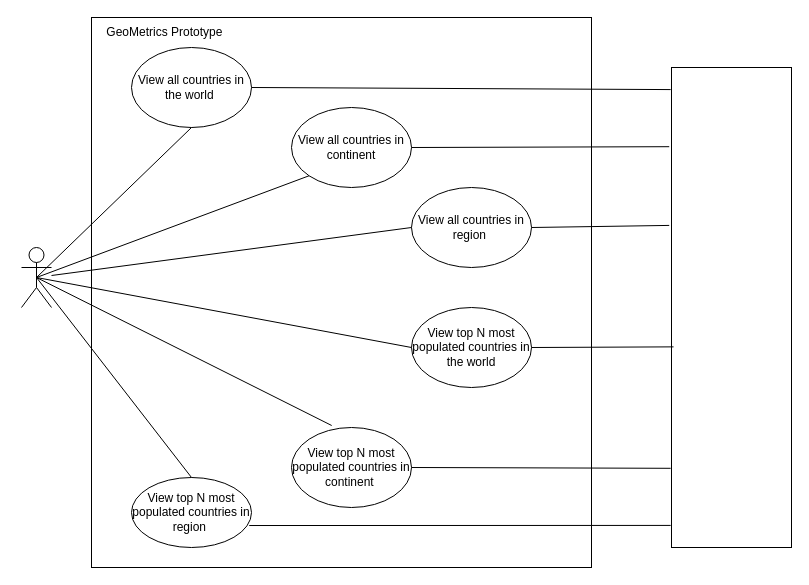
This 809x585 diagram has some shape labels left out. The shapes that lost their labels are listed below. From the top down, each one's centre as x and y in pixels, then its label:
(36,277): Analyst
(731,307): Database
